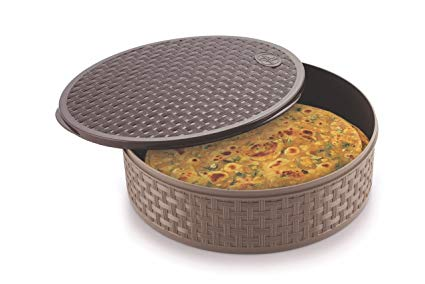roti: (132, 102, 373, 184)
